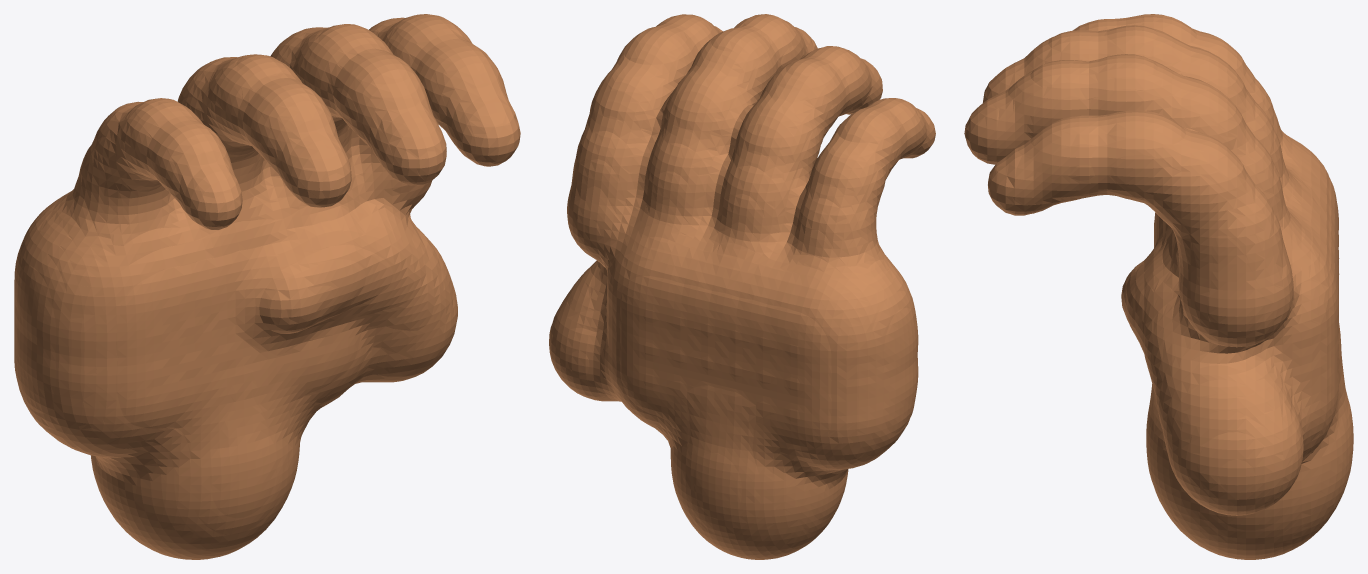
The model's file is hand-right.glb.
The picture shows the model from 3 angles, left to right: view 1: azimuth 30°, elevation 25°; view 2: azimuth 150°, elevation 25°; view 3: azimuth 270°, elevation 25°; orthographic projection. The views are drawn at different scales.
Size of the model in its own units: 0.1521 by 0.19 by 0.1251.
